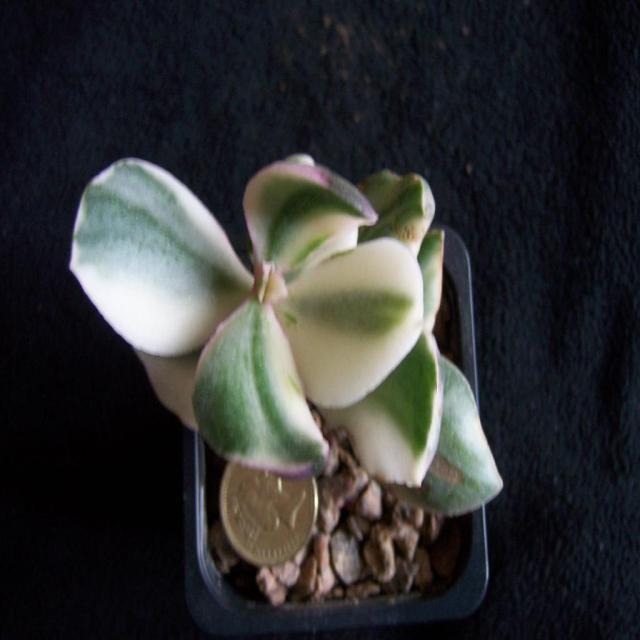Coin: (219, 459, 319, 567)
